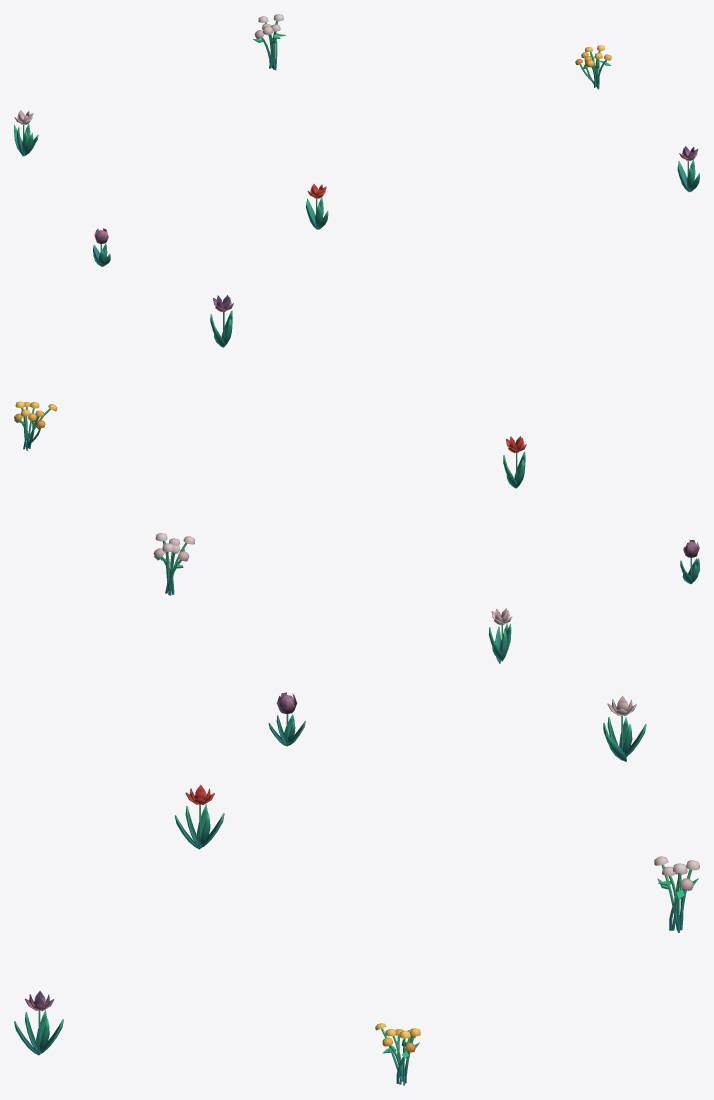
File: flowers.glb
3 views of the same model, one above another, from view 1: azimuth 30°, elevation 25°; view 2: azimuth 150°, elevation 25°; view 3: azimuth 270°, elevation 25° (orthographic). The views are drawn at different scales.
Parts seen in each view (by area): view 1: Dandelion_White_Material #150_0, Dandelion_Yellow_Material #150_0, Liliy_White_Material #150_0, Lilie_Red_Material #150_0, Liliy_Purple_Material #150_0, Tulip_Purple_Material #150_0; view 2: Dandelion_White_Material #150_0, Dandelion_Yellow_Material #150_0, Liliy_White_Material #150_0, Lilie_Red_Material #150_0, Liliy_Purple_Material #150_0; view 3: Dandelion_White_Material #150_0, Liliy_Purple_Material #150_0, Lilie_Red_Material #150_0, Liliy_White_Material #150_0, Dandelion_Yellow_Material #150_0, Tulip_Purple_Material #150_0.
Boxes of the visible parts, left/top/right/bottom form: Dandelion_White_Material #150_0: left=253, top=14, right=286, bottom=70; Dandelion_Yellow_Material #150_0: left=575, top=45, right=611, bottom=89; Liliy_White_Material #150_0: left=14, top=110, right=38, bottom=156; Lilie_Red_Material #150_0: left=306, top=184, right=328, bottom=229; Liliy_Purple_Material #150_0: left=677, top=146, right=699, bottom=191; Tulip_Purple_Material #150_0: left=93, top=228, right=110, bottom=266; Dandelion_White_Material #150_0: left=153, top=533, right=195, bottom=595; Dandelion_Yellow_Material #150_0: left=14, top=401, right=57, bottom=450; Liliy_White_Material #150_0: left=488, top=608, right=512, bottom=663; Lilie_Red_Material #150_0: left=503, top=436, right=526, bottom=488; Liliy_Purple_Material #150_0: left=210, top=295, right=233, bottom=347; Dandelion_White_Material #150_0: left=654, top=856, right=699, bottom=932; Liliy_Purple_Material #150_0: left=14, top=991, right=63, bottom=1055; Lilie_Red_Material #150_0: left=175, top=785, right=224, bottom=849; Liliy_White_Material #150_0: left=603, top=695, right=646, bottom=761; Dandelion_Yellow_Material #150_0: left=375, top=1023, right=420, bottom=1085; Tulip_Purple_Material #150_0: left=268, top=692, right=305, bottom=746.
Bounding box in the file's own units: 20.98 × 2.54 × 16.28.
Materials: 1 (1 with a texture image).
